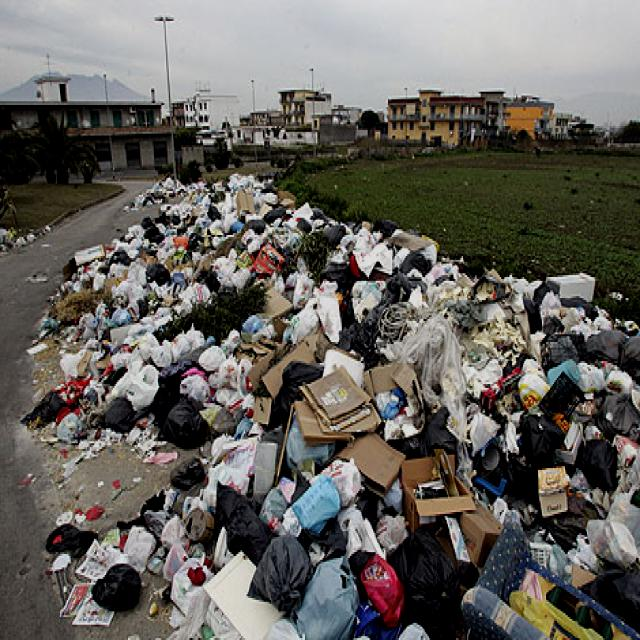garbage: (47, 170, 640, 640)
